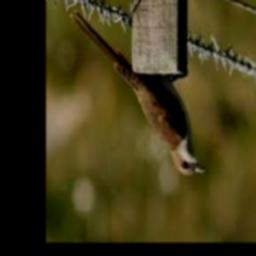Cuckoo: (71, 12, 206, 175)
